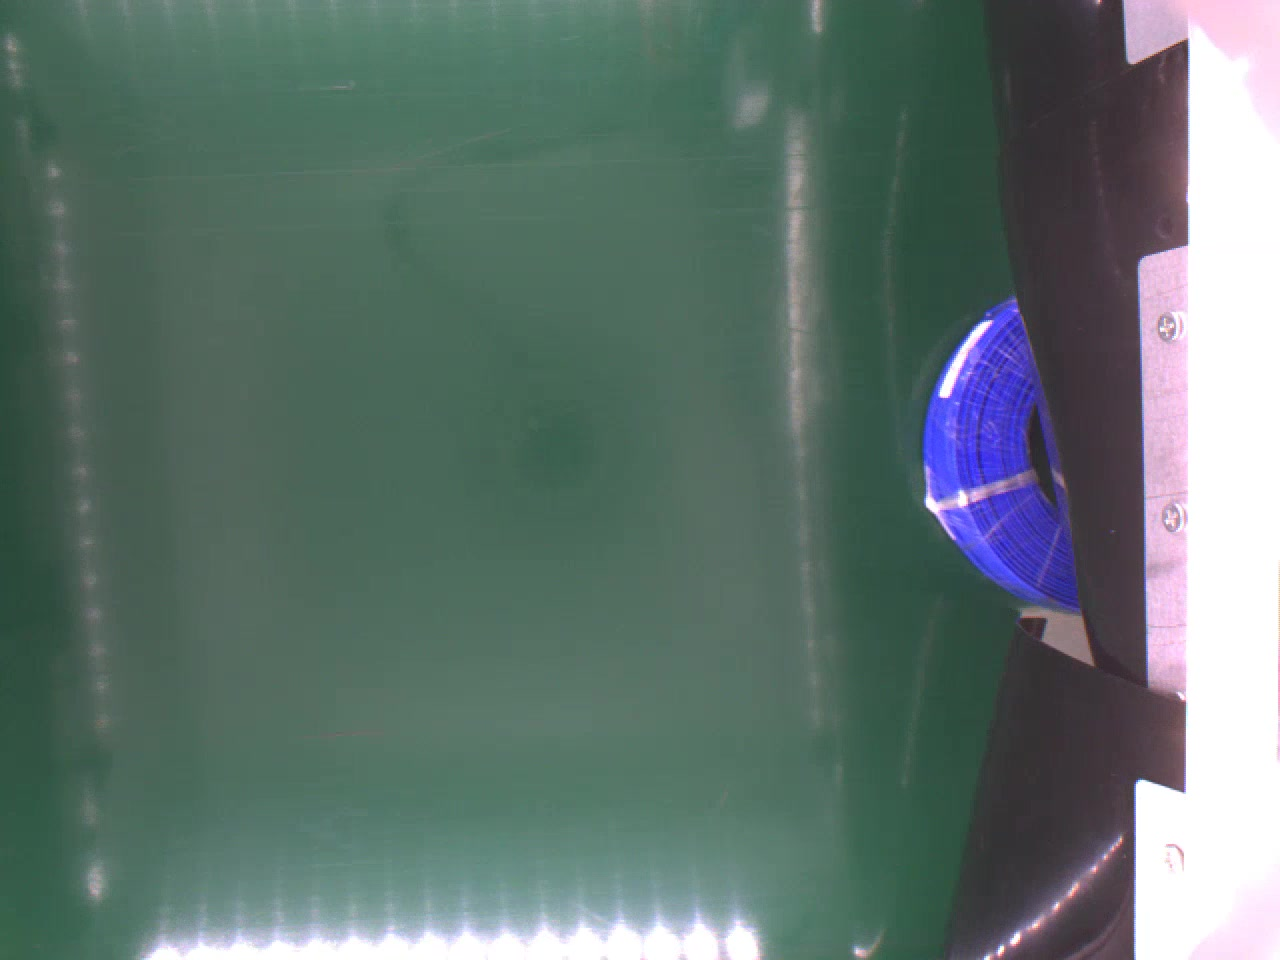blue: (917, 291, 1081, 613)
